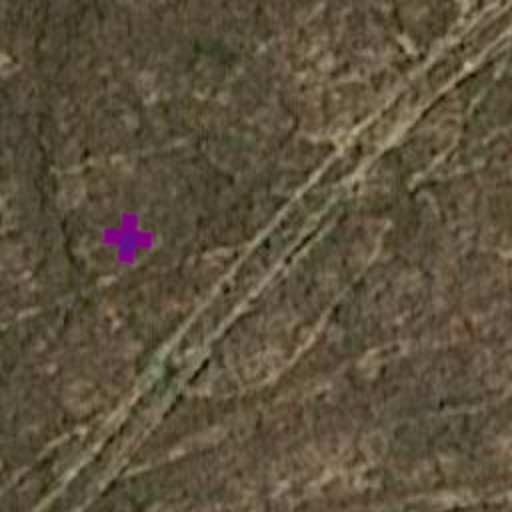cross: (100, 210, 156, 266)
